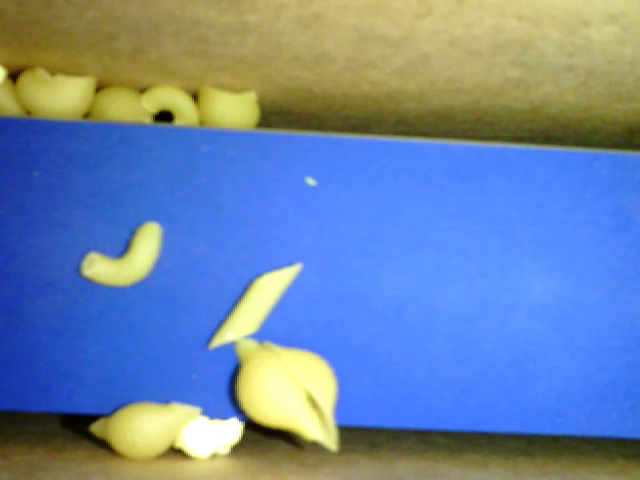elbow: (82, 222, 164, 286), (143, 81, 201, 125)
penne: (204, 261, 302, 348)
shell: (231, 334, 338, 451), (89, 398, 205, 462), (13, 64, 97, 118), (199, 82, 262, 125), (87, 86, 152, 123)
